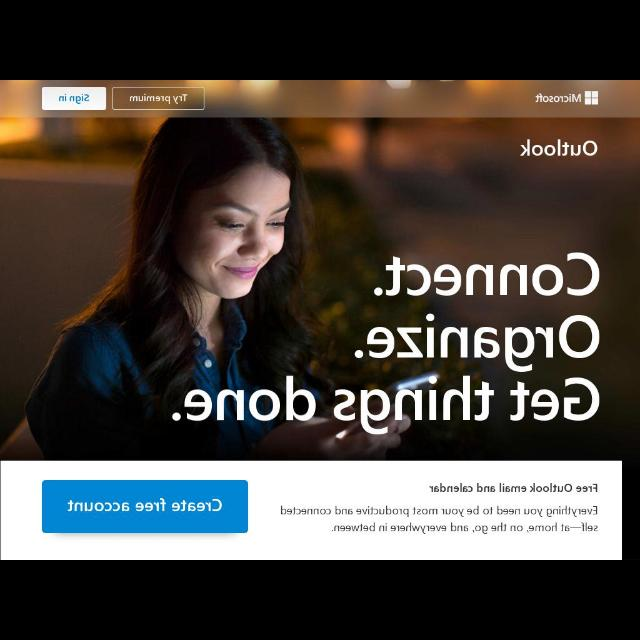backgroundimage: (1, 118, 639, 460)
image: (536, 90, 598, 106)
text: (172, 252, 598, 436), (280, 506, 598, 532), (67, 497, 221, 518), (429, 482, 599, 498), (520, 140, 598, 158), (128, 94, 188, 104), (58, 92, 90, 104)
textbutton: (42, 480, 250, 532), (112, 88, 204, 110), (42, 86, 106, 110)
